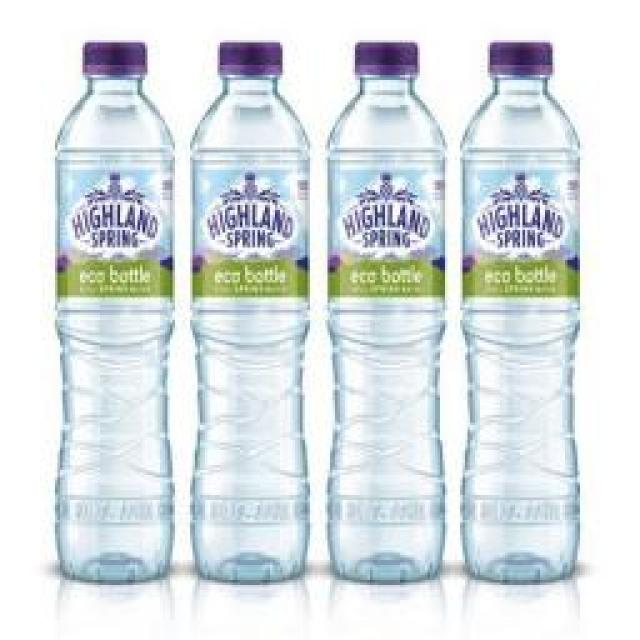bottle: (49, 40, 179, 585), (323, 42, 445, 585), (190, 42, 310, 582), (460, 40, 578, 583)
